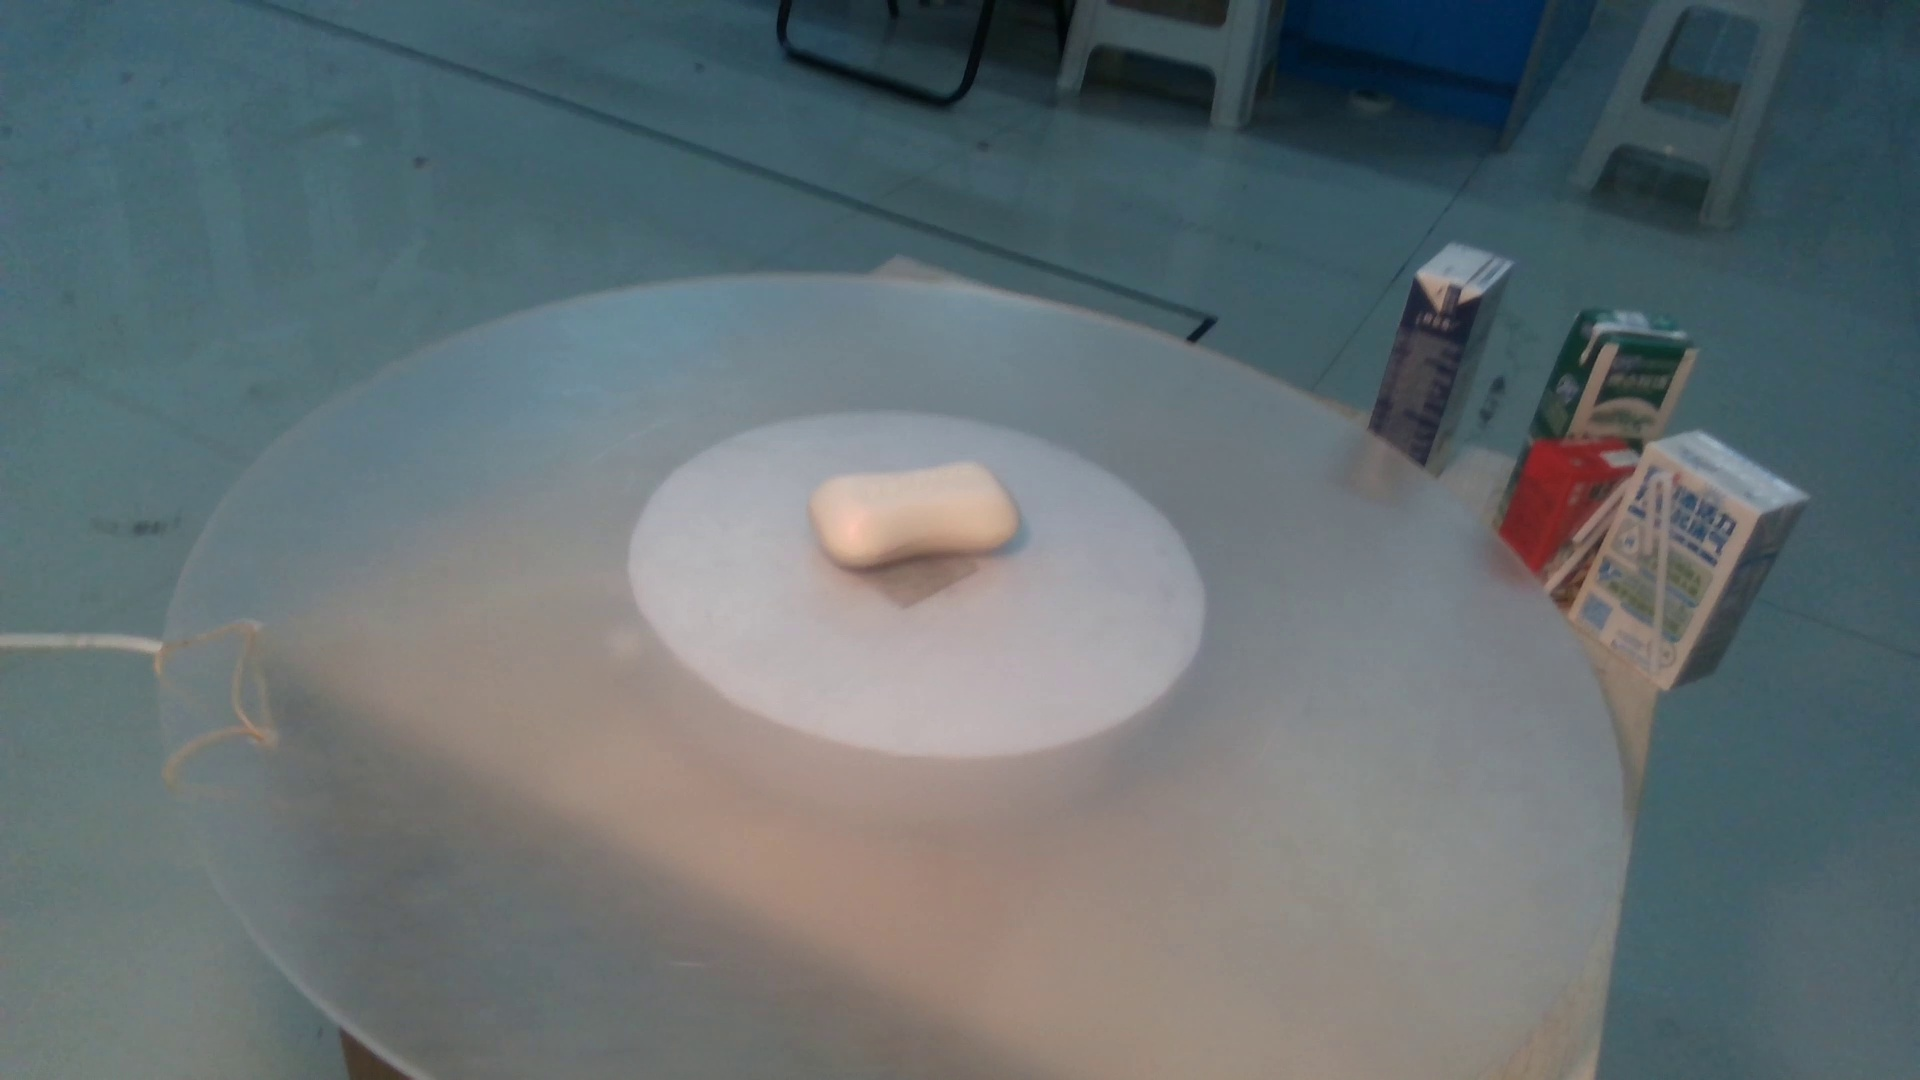CA003_1: (795, 423, 1071, 612)
